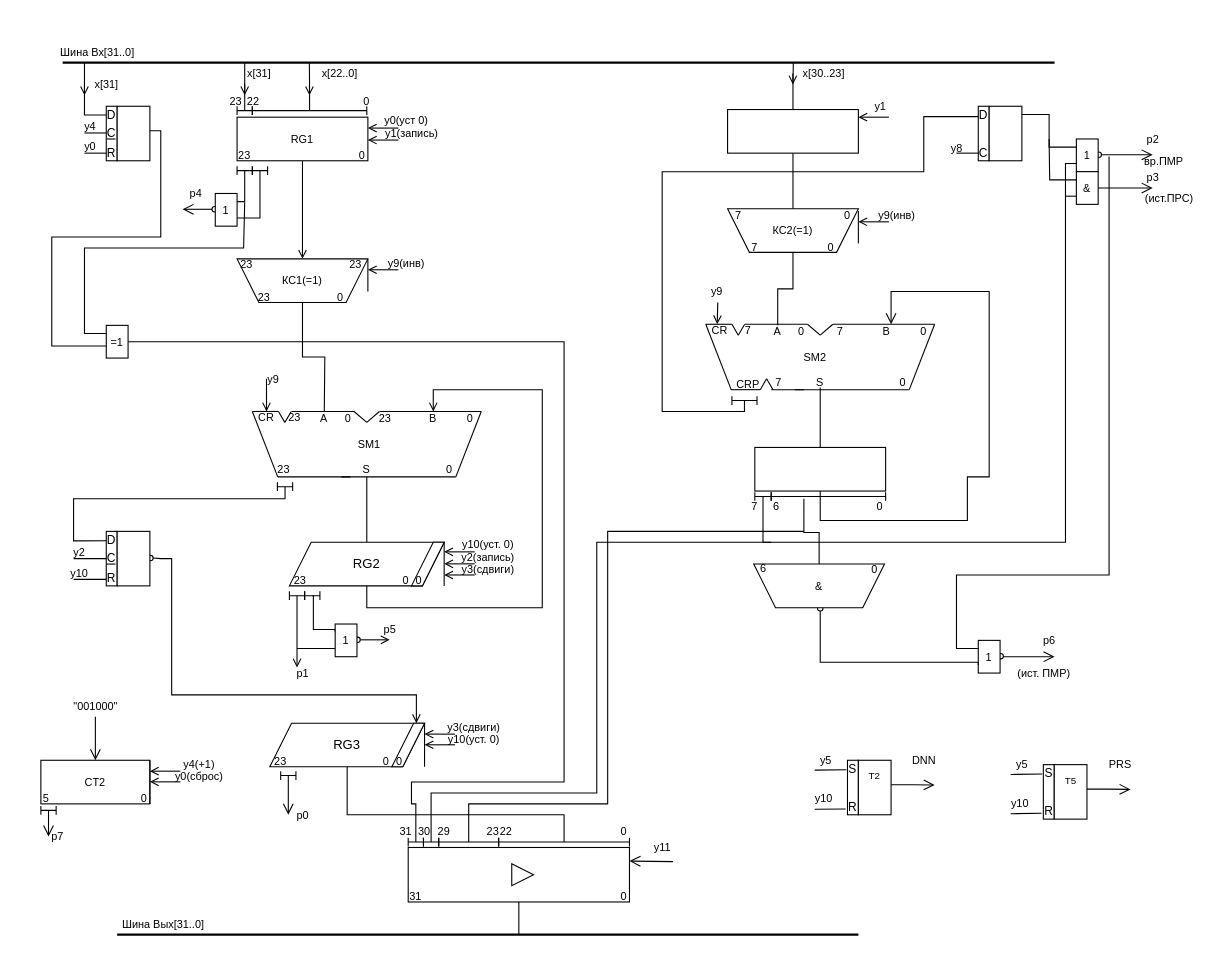
The diagram is 1221 pixels wide and 956 high, and some of its shapes have lost their labels. The shapes that lost their labels are listed below. From the top down, each one's centre as x and y in pixels, then its label:
(133,133): T1
(792,130): RG4
(1005,133): T3
(820,468): CT1
(133,558): T4
